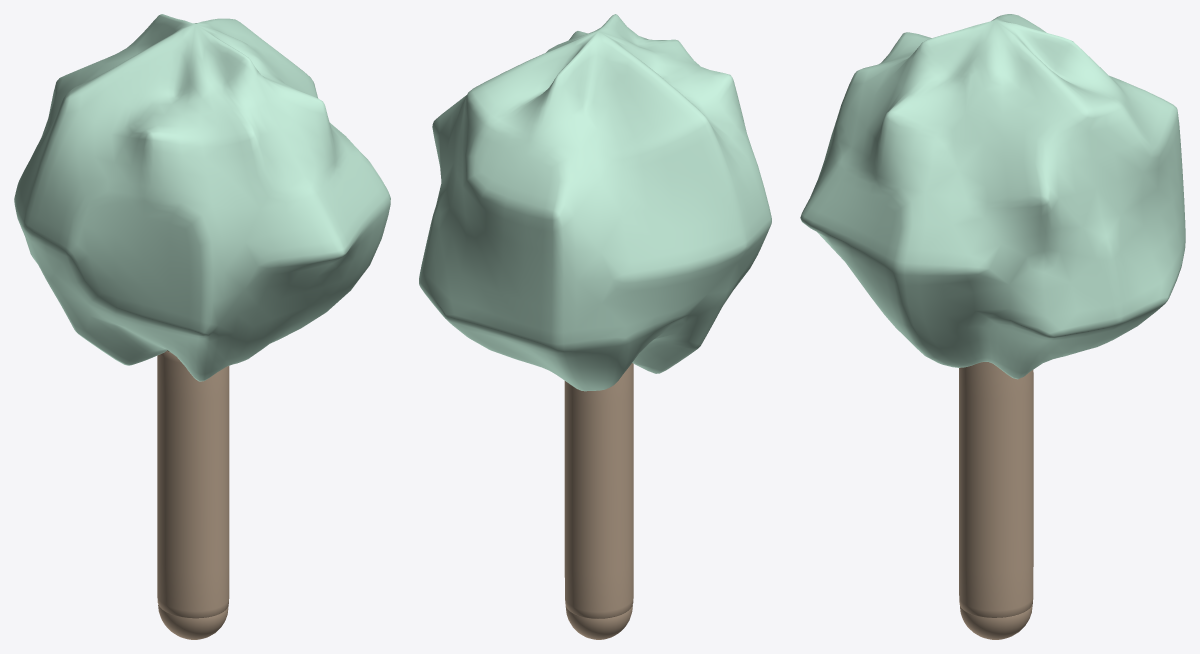
Rendered from PROP_TreeBig_v2.glb.
3 views of the same model, side by side, from view 1: azimuth 30°, elevation 25°; view 2: azimuth 150°, elevation 25°; view 3: azimuth 270°, elevation 25° (orthographic). The views are drawn at different scales.
Visible parts, largest first — view 1: PROP_TreeBig_v2; view 2: PROP_TreeBig_v2; view 3: PROP_TreeBig_v2.
Part boxes in pixels (x1=…): PROP_TreeBig_v2: x1=14, y1=14, x2=390, y2=639; PROP_TreeBig_v2: x1=419, y1=14, x2=771, y2=639; PROP_TreeBig_v2: x1=800, y1=14, x2=1185, y2=639.
Size of the model in its own units: 1.61 by 3.01 by 1.7.
